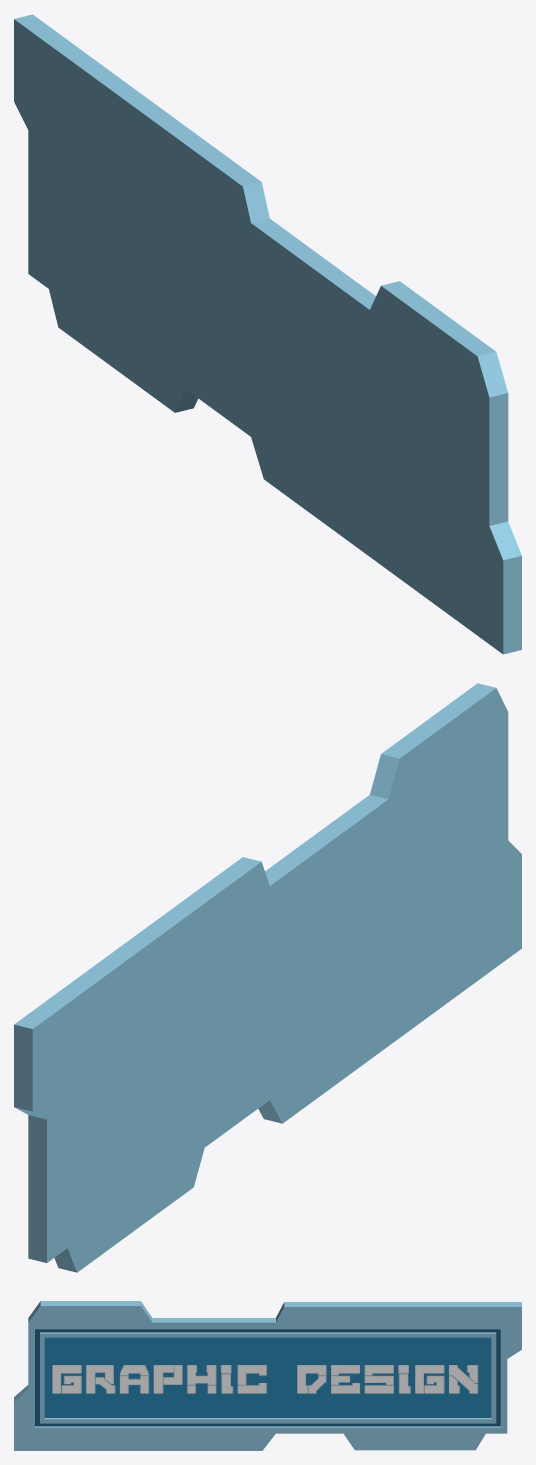
File: old-titlu-gd.glb
3 views of the same model, one above another, from view 1: azimuth 30°, elevation 25°; view 2: azimuth 150°, elevation 25°; view 3: azimuth 270°, elevation 25° (orthographic). The views are drawn at different scales.
Parts seen in each view (by area): view 1: holograma; view 2: holograma; view 3: textbox, holograma, rama_interioara, rama_interioara.001.
Part boxes in pixels (<box>): holograma: <box>14,14,521,654</box>; holograma: <box>14,683,521,1272</box>; textbox: <box>44,1337,491,1417</box>; holograma: <box>14,1301,521,1450</box>; rama_interioara: <box>40,1332,496,1423</box>; rama_interioara.001: <box>35,1329,500,1426</box>.
Bounding box in the file's own units: 0.1215 × 1.73 × 5.48.
4 materials, 1 textured.
